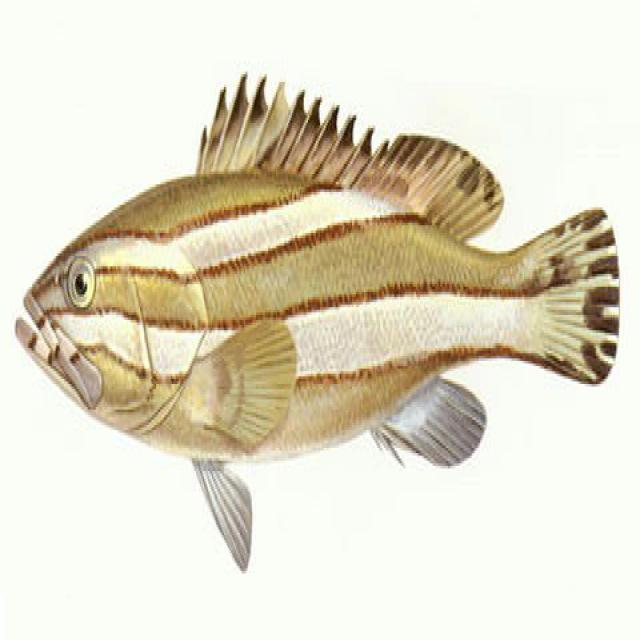ikan: (13, 69, 620, 571)
